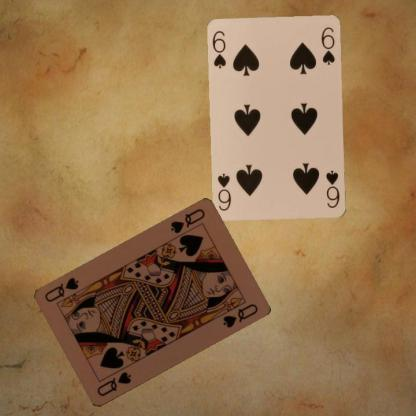6s: (209, 28, 228, 70), (323, 168, 341, 210)
Qs: (94, 369, 132, 398), (168, 206, 206, 235)
